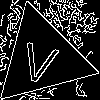V: (17, 33, 62, 86)
